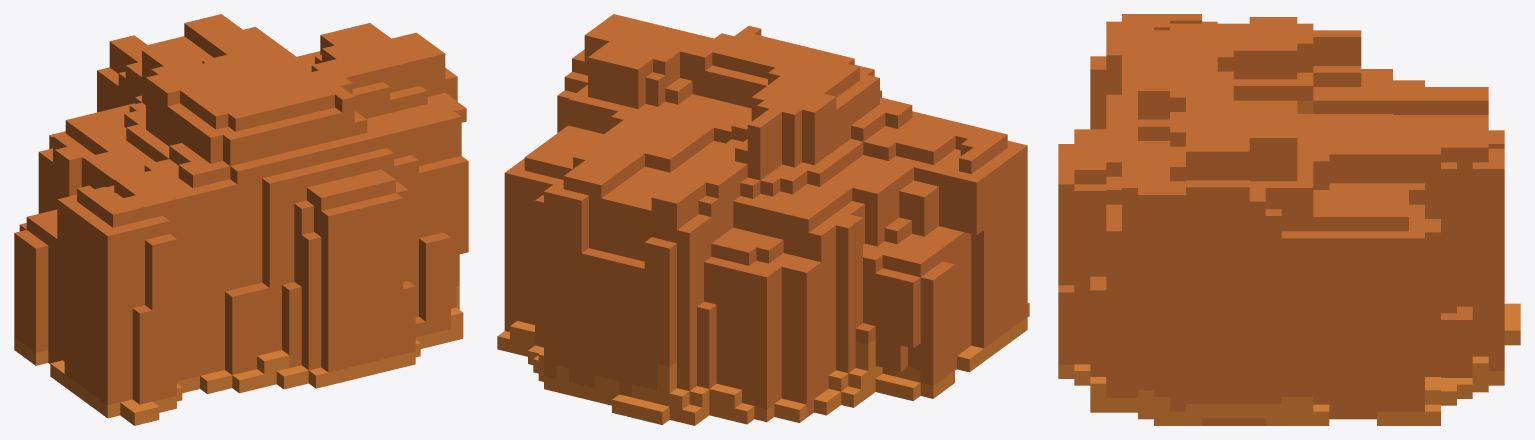
Rendered from Elm_3.obj.
The picture shows the model from 3 angles, left to right: view 1: azimuth 30°, elevation 25°; view 2: azimuth 150°, elevation 25°; view 3: azimuth 270°, elevation 25°; orthographic projection. The views are drawn at different scales.
Bounding box in the file's own units: 31 × 19 × 29.
